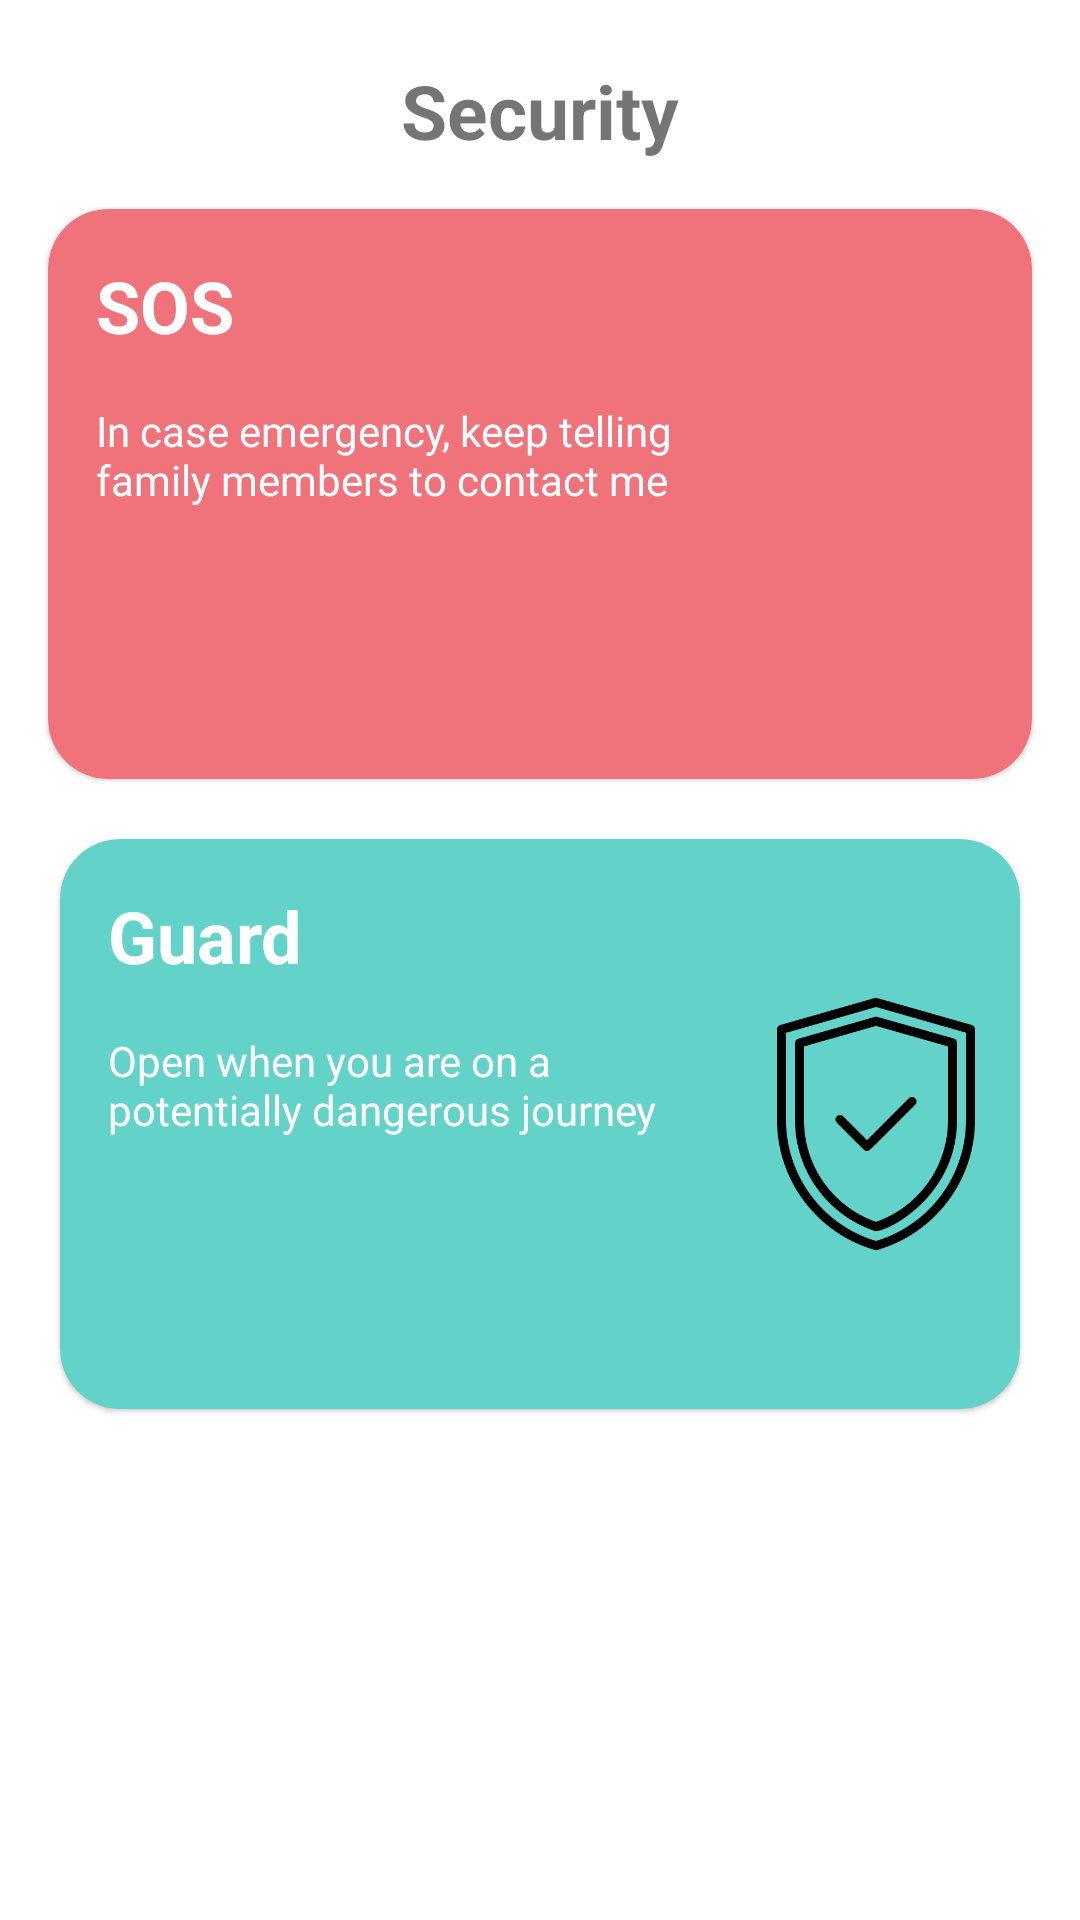

Where to tap for icons on this 1080x1920 app screen, as point (x, y):
shield: point (876, 1123)
